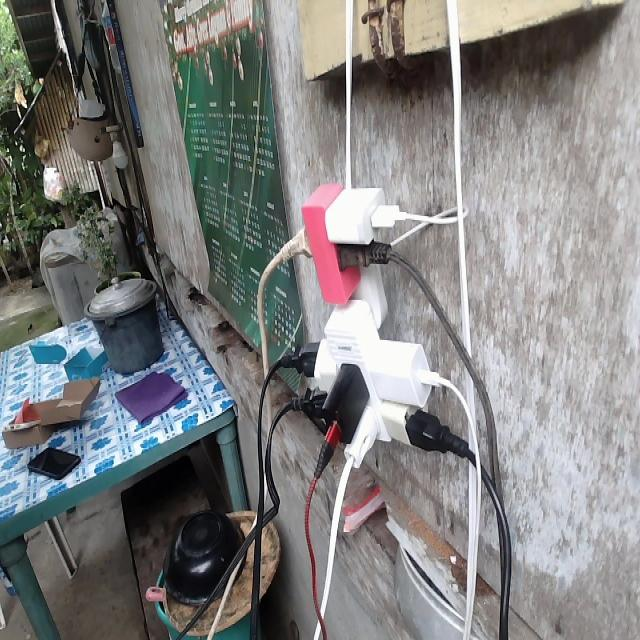-: (284, 180, 438, 469)
